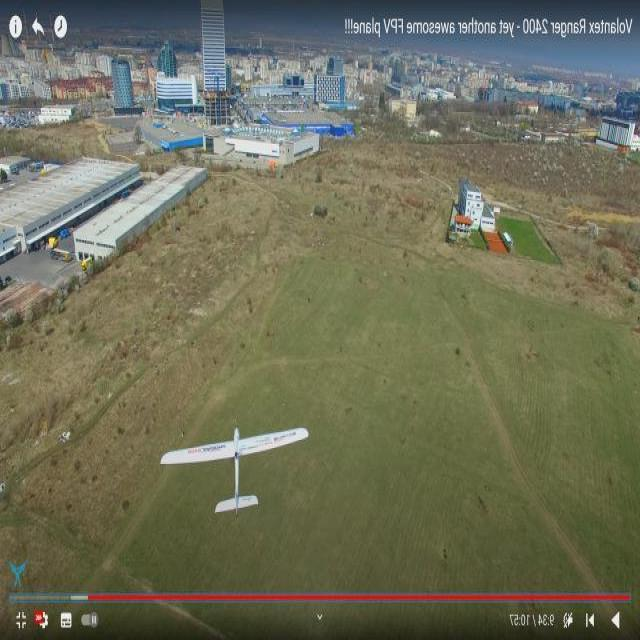iha: (159, 457, 310, 485)
